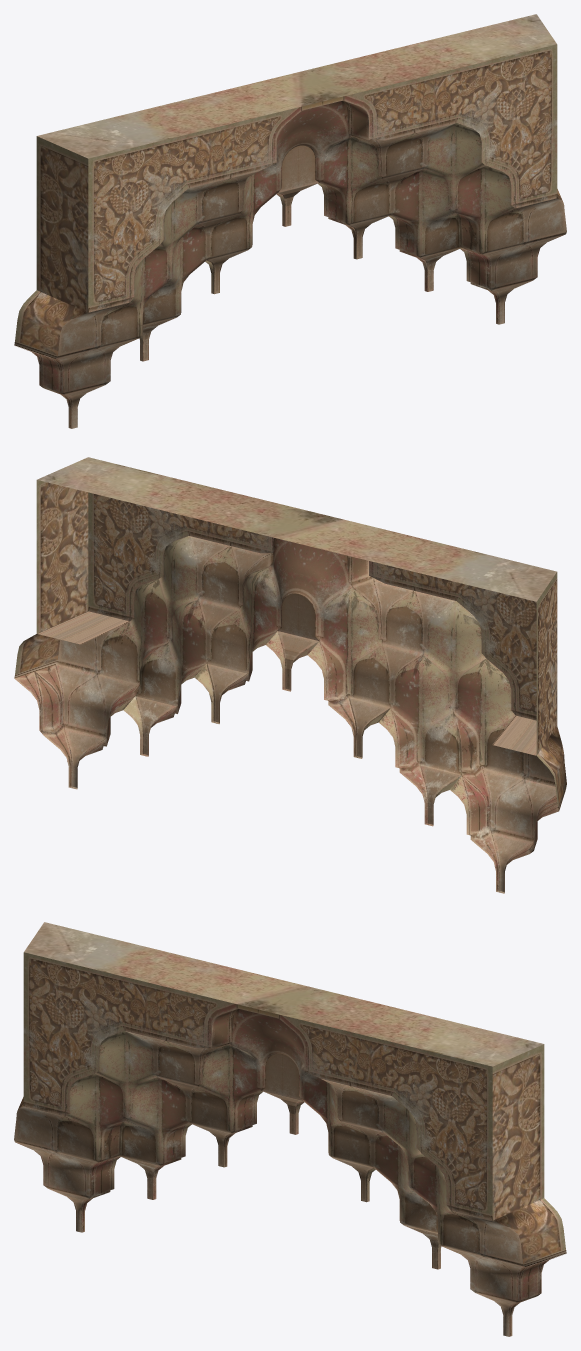
File: MugarnasWall.fbx
3 renders of one model, top to bottom at view 1: azimuth 30°, elevation 25°; view 2: azimuth 150°, elevation 25°; view 3: azimuth 330°, elevation 25°, orthographic.
Visible parts, largest first — view 1: Mesh_0; view 2: Mesh_0; view 3: Mesh_0.
Part boxes in pixels (bbox=[...]): Mesh_0: bbox=[14, 14, 566, 428]; Mesh_0: bbox=[14, 457, 566, 893]; Mesh_0: bbox=[14, 922, 566, 1336].
Bounding box in the file's own units: 1022 × 537 × 118.
